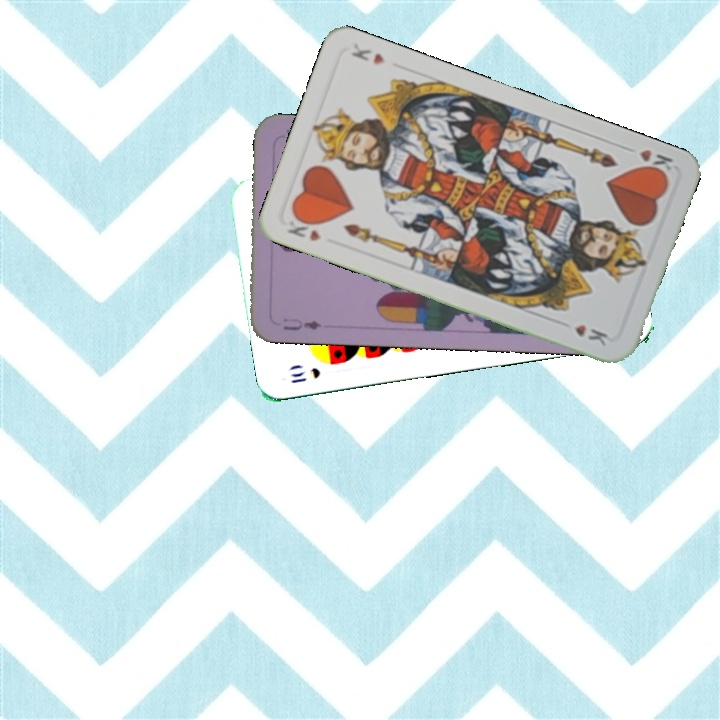EU: (279, 314, 324, 333)
HK: (619, 142, 675, 180), (283, 216, 323, 244)
S10: (287, 364, 323, 386)
